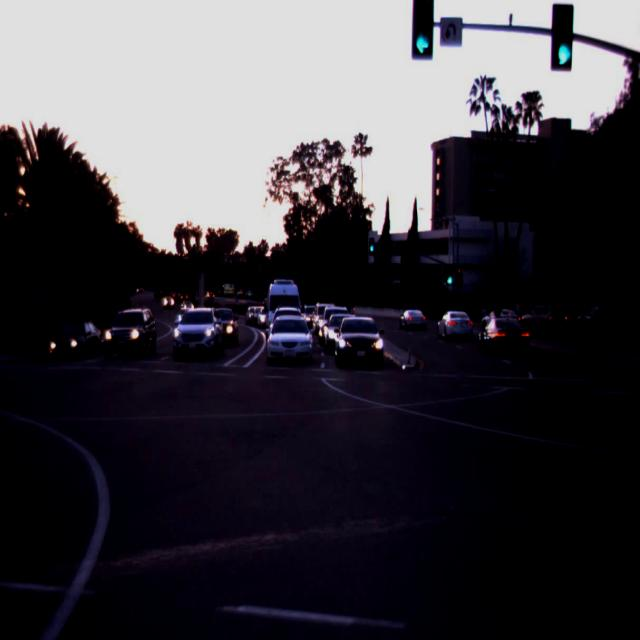yesil: (551, 4, 573, 71), (412, 0, 433, 60), (369, 237, 374, 256)
